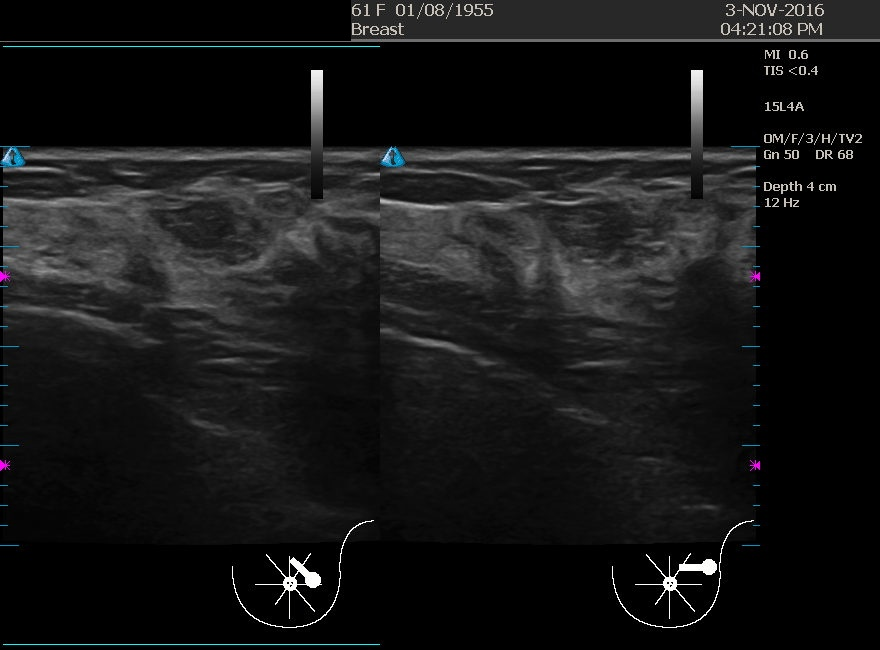BIRADS_2: (54, 153, 254, 353)
BIRADS_3: (489, 151, 689, 351)
